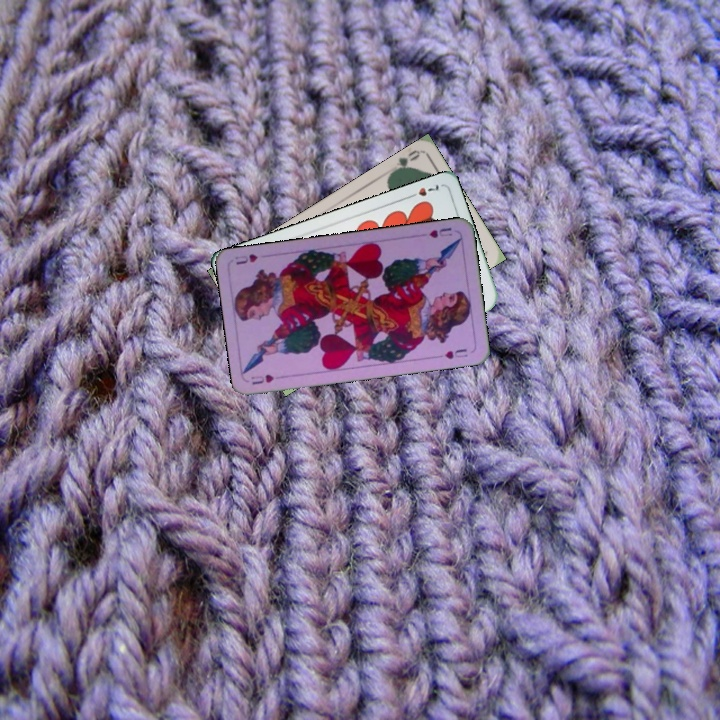GO: (387, 146, 422, 176)
H7: (404, 180, 441, 201)
HU: (425, 223, 455, 241), (247, 370, 276, 387)
